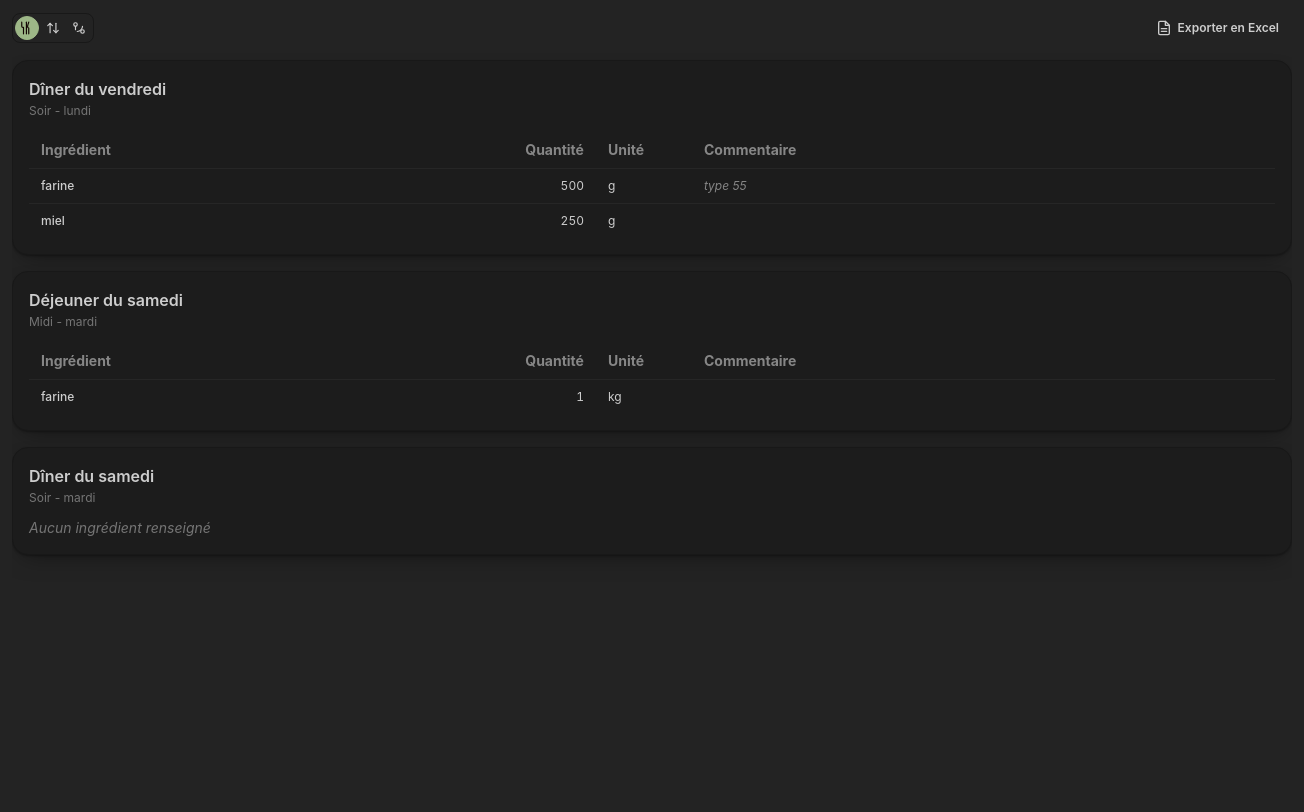
Test: CoursesTab › bascule sur la vue regroupee, somme affichee et commentaire attribue
Click the button named "Ingrédients regroupés" at (79, 28), box [67,16,91,40]
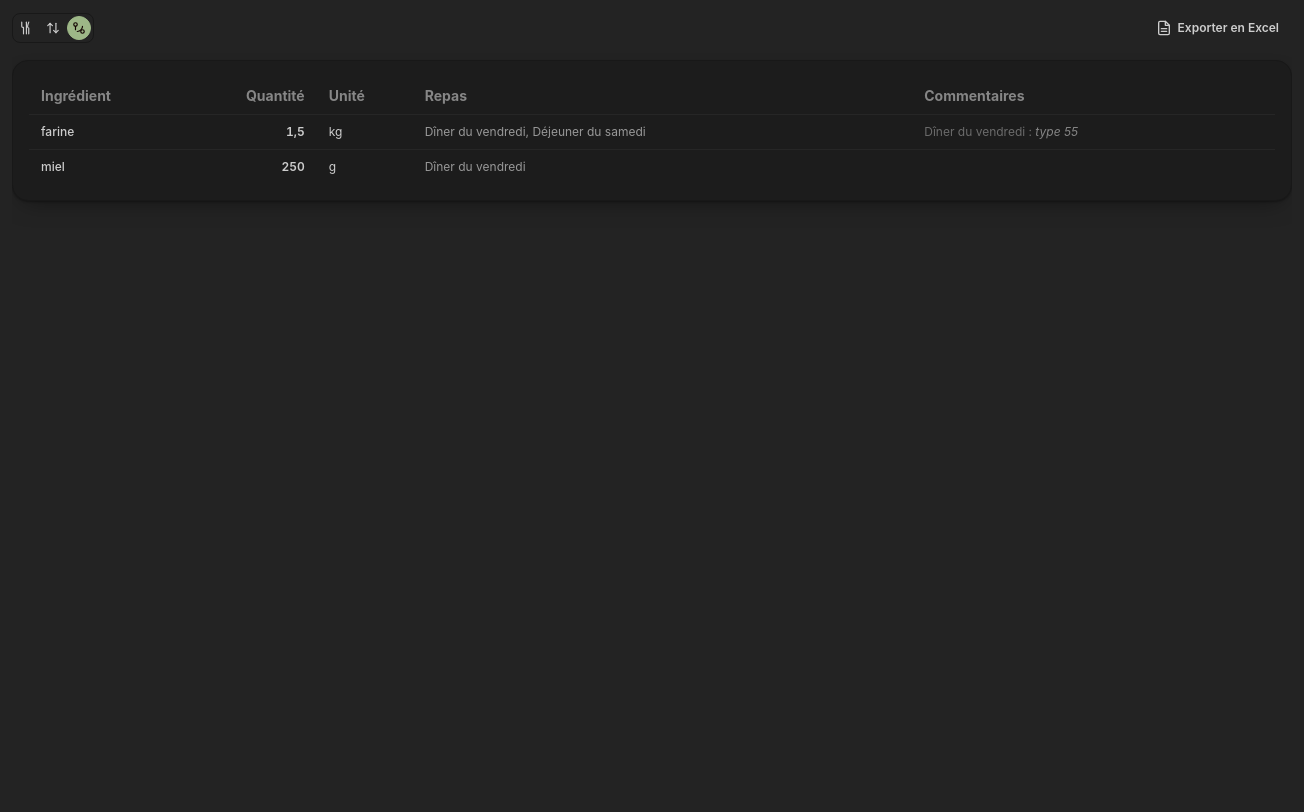
Expected: the text "1,5" is shown, [221,115,317,150]
Expected: the text "farine" is shown once, [29,115,221,150]
